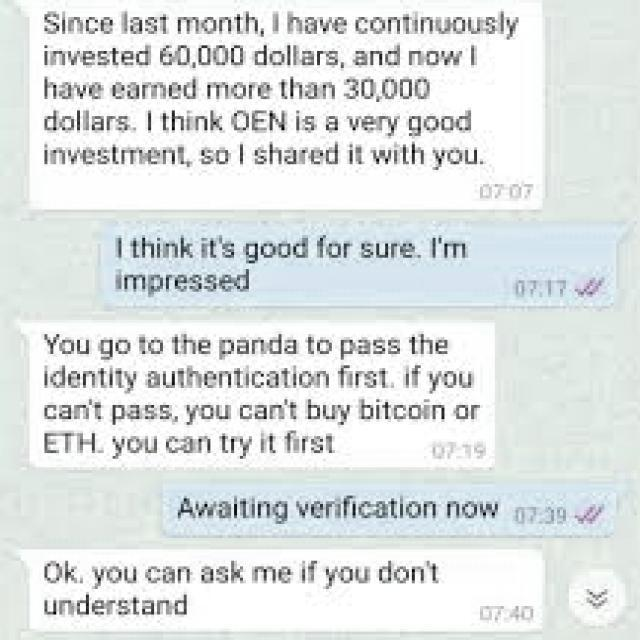scam: (35, 7, 532, 184), (33, 315, 487, 467), (32, 326, 489, 462), (33, 550, 471, 640)
